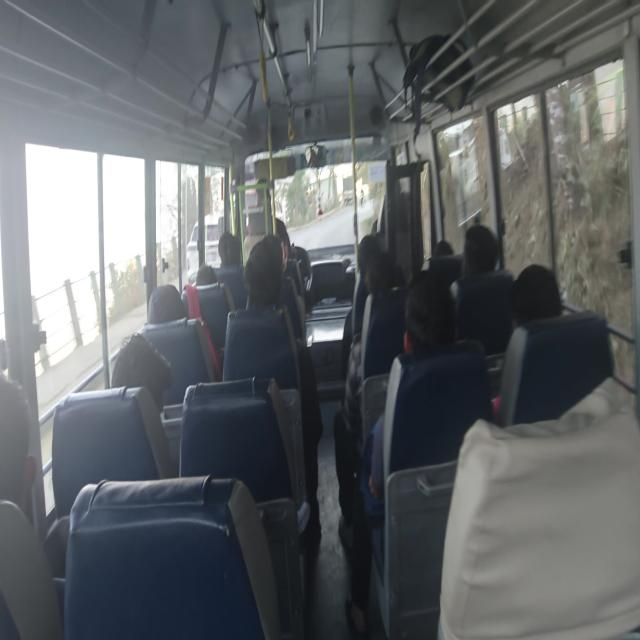person: (0, 369, 50, 517), (120, 348, 185, 434), (508, 276, 582, 324), (394, 303, 452, 353), (360, 254, 412, 307), (135, 277, 184, 326), (248, 245, 288, 305), (460, 227, 500, 265), (344, 232, 382, 270), (253, 228, 286, 269), (216, 230, 250, 266), (196, 256, 221, 304), (435, 235, 456, 263)
